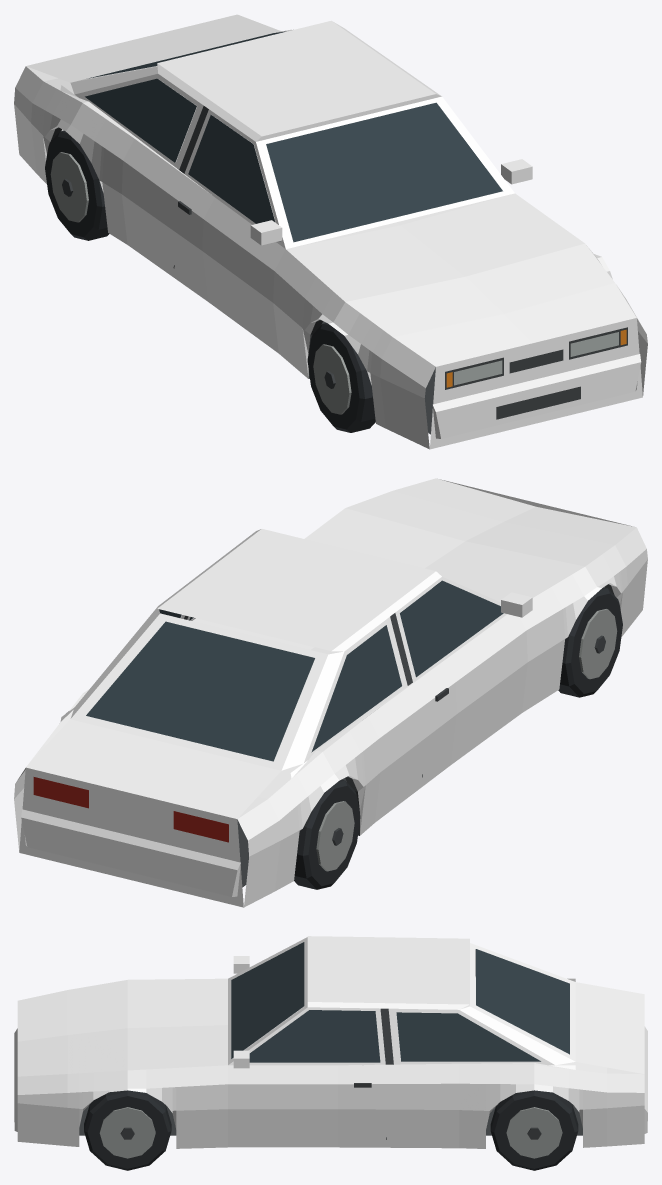
File: whitlock_switchback_s.glb
3 renders of one model, top to bottom at view 1: azimuth 30°, elevation 25°; view 2: azimuth 150°, elevation 25°; view 3: azimuth 270°, elevation 25°, orthographic. The views are drawn at different scales.
Parts seen in each view (by area): view 1: whitlock_switchback_s; view 2: whitlock_switchback_s; view 3: whitlock_switchback_s.
Part boxes in pixels (bbox=[...]): whitlock_switchback_s: bbox=[14, 14, 647, 449]; whitlock_switchback_s: bbox=[14, 478, 647, 907]; whitlock_switchback_s: bbox=[14, 936, 647, 1170].
Bounding box in the file's own units: 1.81 × 1.25 × 4.69.
8 materials, 1 textured.
